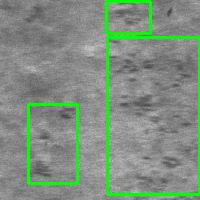rolled-in_scale: (107, 38, 199, 194), (28, 104, 77, 183), (106, 1, 150, 33)
